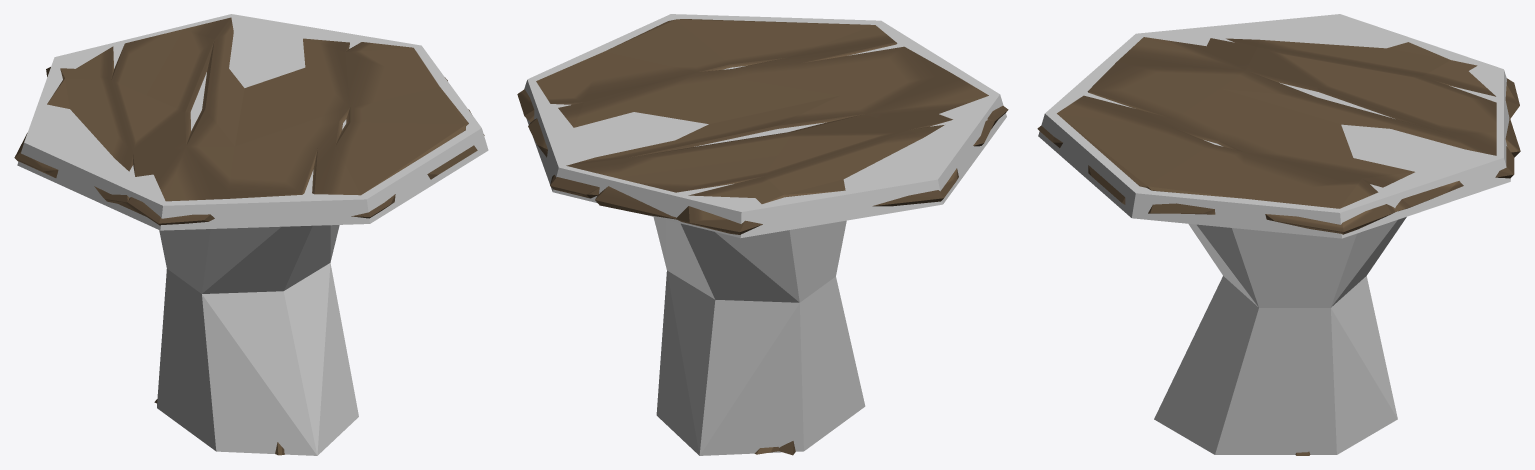
Rendered from SM_Prop_Table_02.fbx.
The picture shows the model from 3 angles, left to right: view 1: azimuth 30°, elevation 25°; view 2: azimuth 150°, elevation 25°; view 3: azimuth 270°, elevation 25°; orthographic projection. The views are drawn at different scales.
Visible parts, largest first — view 1: SM_Prop_Table_02_ConvexHulls, SM_Prop_Table_02; view 2: SM_Prop_Table_02_ConvexHulls, SM_Prop_Table_02; view 3: SM_Prop_Table_02_ConvexHulls, SM_Prop_Table_02.
Boxes of the visible parts, left/top/right/bottom form: SM_Prop_Table_02_ConvexHulls: left=17, top=14, right=488, bottom=455; SM_Prop_Table_02: left=14, top=17, right=484, bottom=455; SM_Prop_Table_02_ConvexHulls: left=524, top=14, right=1006, bottom=455; SM_Prop_Table_02: left=517, top=19, right=1008, bottom=455; SM_Prop_Table_02_ConvexHulls: left=1038, top=14, right=1510, bottom=454; SM_Prop_Table_02: left=1037, top=37, right=1520, bottom=455.
Size of the model in its own units: 109 by 108 by 75.45.
Materials: 2 (1 with a texture image).
